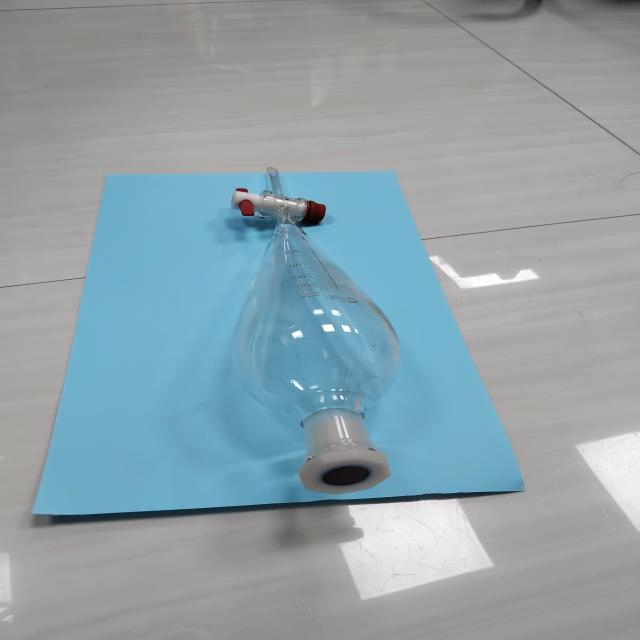Separating_Funnel: (190, 137, 454, 508)
